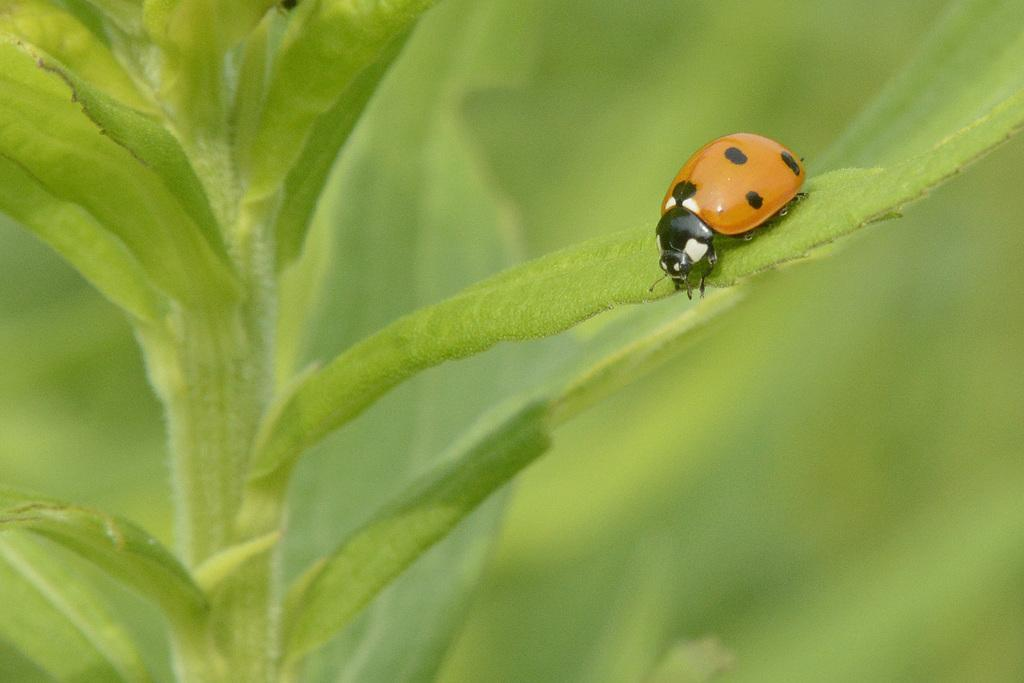ladybug: (647, 129, 813, 301)
